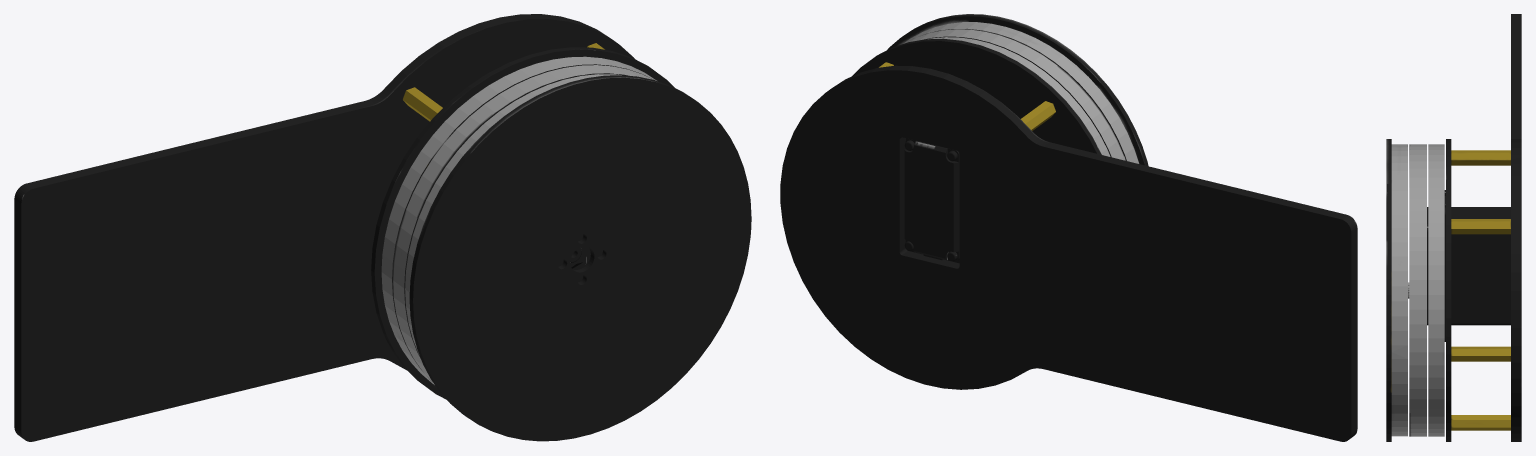
3 renders of one model, left to right at view 1: azimuth 30°, elevation 25°; view 2: azimuth 150°, elevation 25°; view 3: azimuth 270°, elevation 25°, orthographic. The views are drawn at different scales.
Parts seen in each view (by area): view 1: base_link; view 2: base_link; view 3: base_link.
Boxes of the visible parts, box(x1,y1,x2,y2) form: base_link: box(14, 14, 751, 441); base_link: box(780, 14, 1357, 441); base_link: box(1386, 14, 1521, 441).
Size of the model in its own units: 0.215 by 0.05 by 0.112.
Materials: 1 (1 with a texture image).
